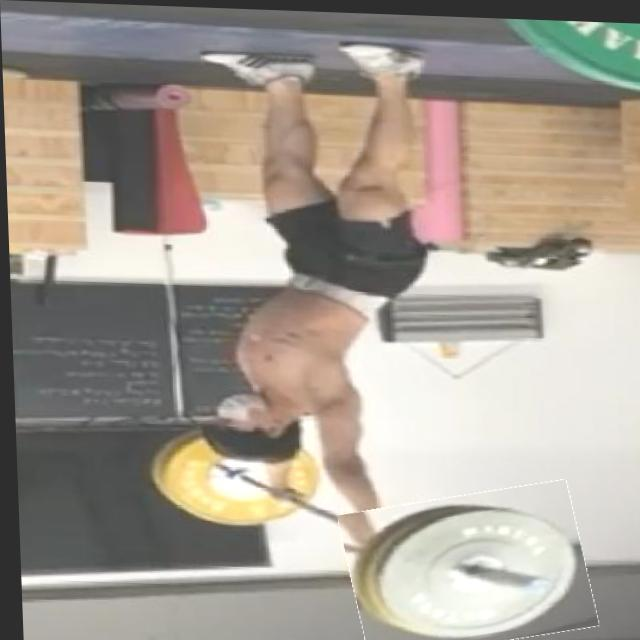barbell: (339, 480, 590, 640)
